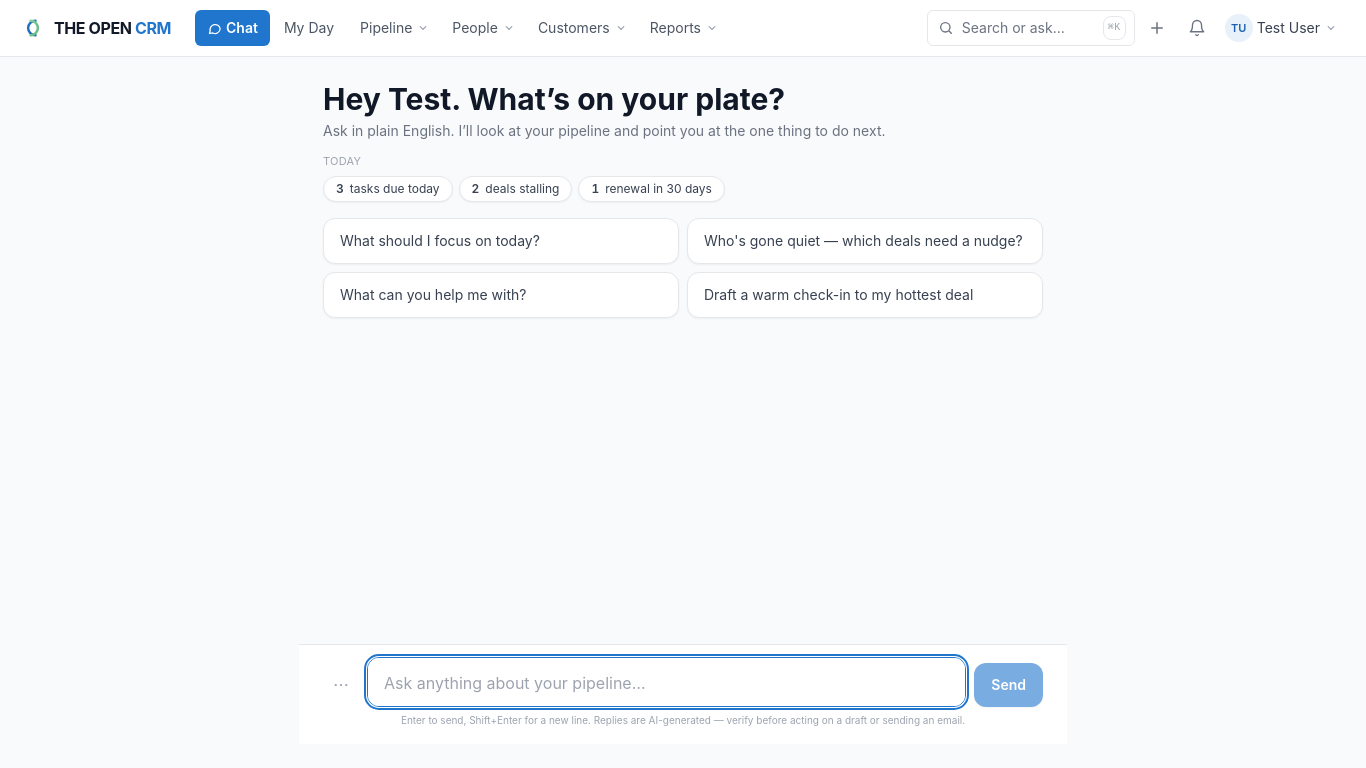
Chat empty state › renders today chips from /my-day and seeds the composer on click
Expected: the text "deals stalling" is shown, [485,180,559,196]
Expected: the text "renewal in 30 days" is shown, [605,180,712,196]
Click the text "tasks due today" at (395, 188), box [350,180,440,196]
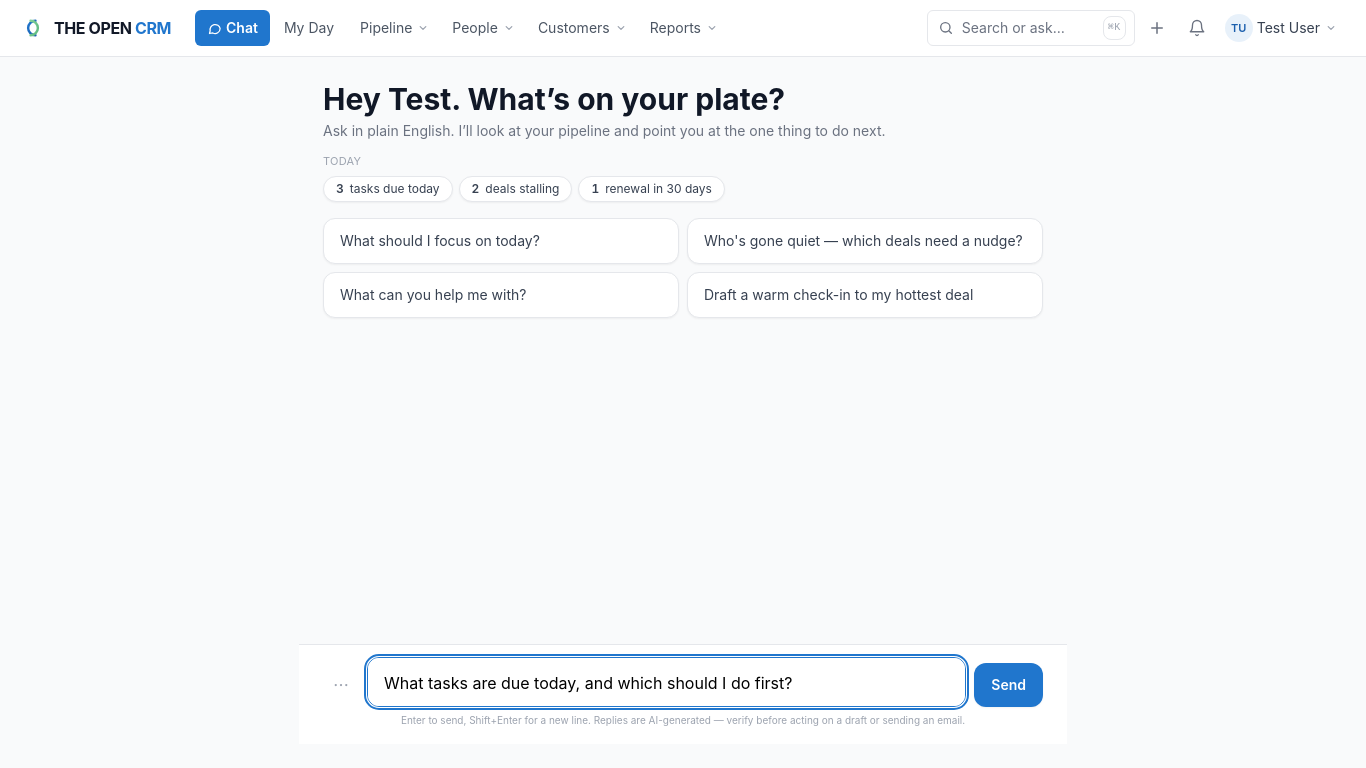
Expected: the text box named "Message" holds "What tasks are due today, and which should I do first?", [367,657,966,707]
